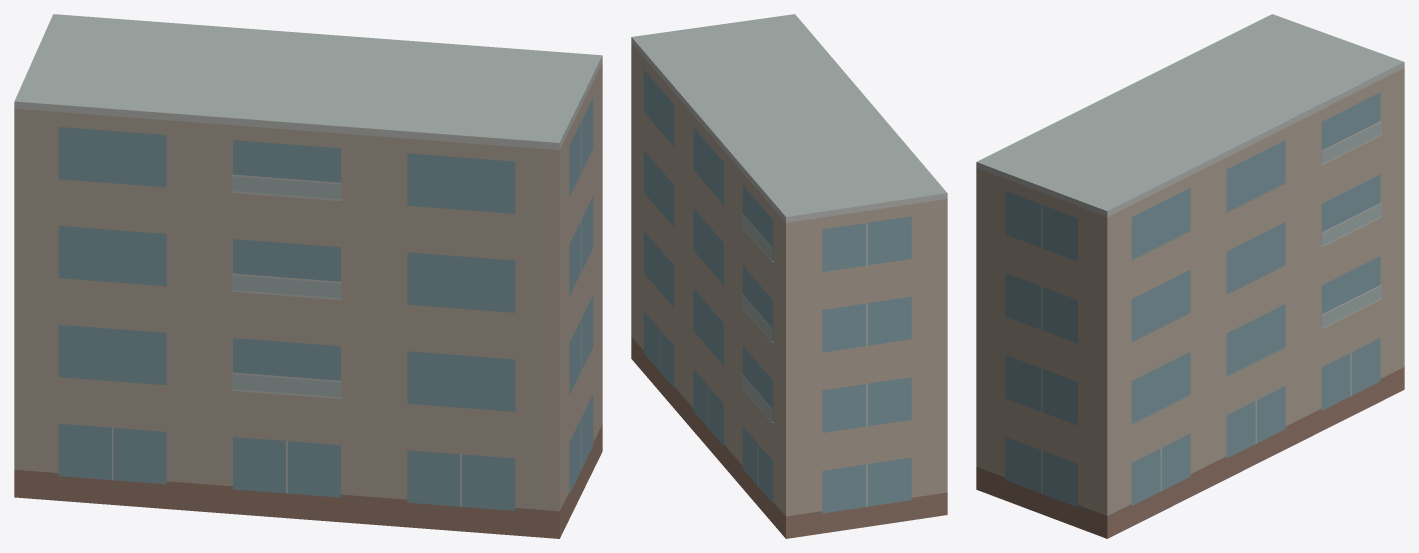
Rendered from survey-upis-32773107.glb.
The picture shows the model from 3 angles, left to right: view 1: azimuth 30°, elevation 25°; view 2: azimuth 150°, elevation 25°; view 3: azimuth 270°, elevation 25°; orthographic projection. The views are drawn at different scales.
Visible parts, largest first — view 1: survey-upis-32773107.tmp; view 2: survey-upis-32773107.tmp; view 3: survey-upis-32773107.tmp.
Part boxes in pixels (left/top/right/bottom): survey-upis-32773107.tmp: left=14, top=14, right=602, bottom=538; survey-upis-32773107.tmp: left=631, top=14, right=947, bottom=538; survey-upis-32773107.tmp: left=976, top=14, right=1404, bottom=538.
Bounding box in the file's own units: 17.44 × 13.5 × 16.
